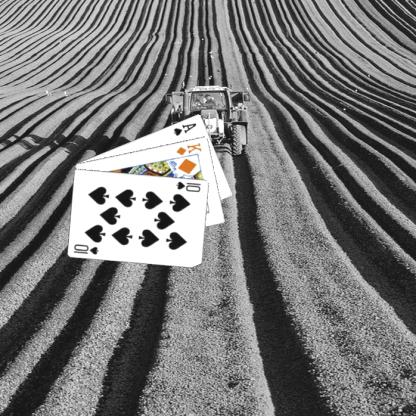10S: (173, 178, 202, 193), (71, 241, 100, 256)
AS: (171, 120, 198, 137)
KD: (174, 140, 202, 156)
